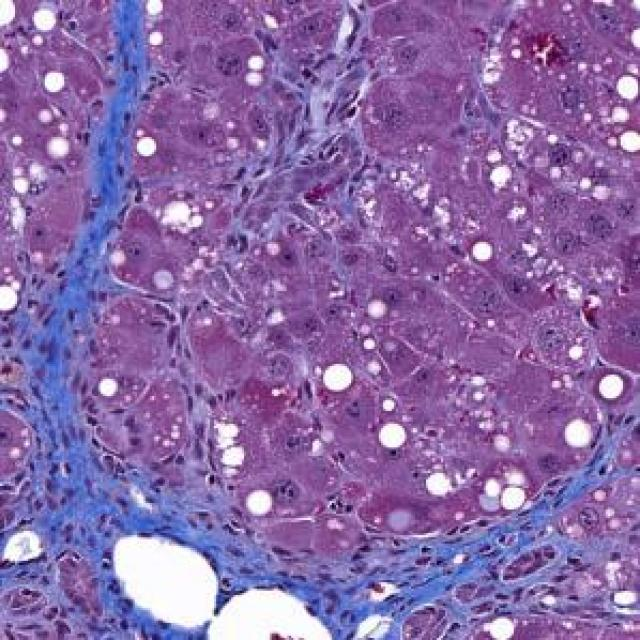fibrosis: (66, 69, 188, 351), (15, 404, 238, 558), (330, 514, 563, 631)
